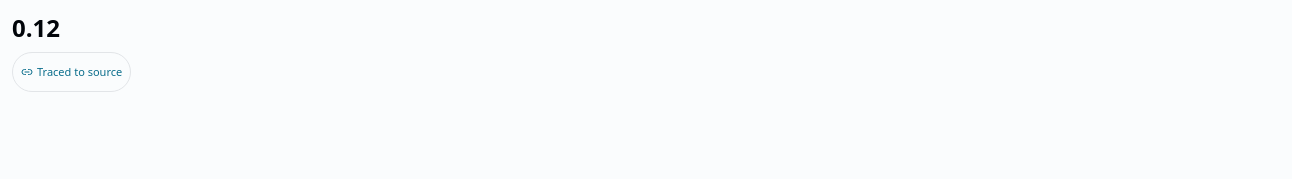
Scenario: TraceableFigure › says a source is unavailable rather than fabricating a link
Step 1. Click the button "Traced to source" → (72, 72), box [12,52,131,92]
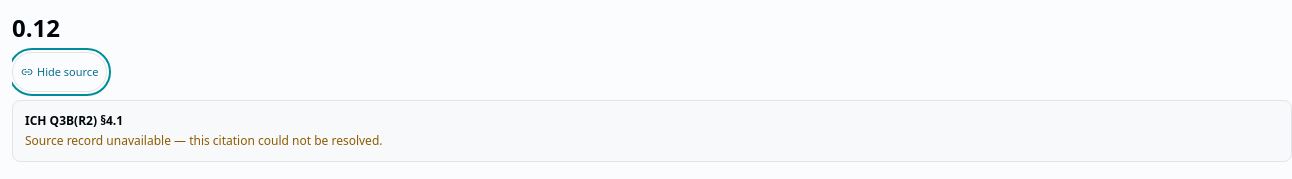
Expected: the text "could not be resolved" is shown, [25,132,382,149]
